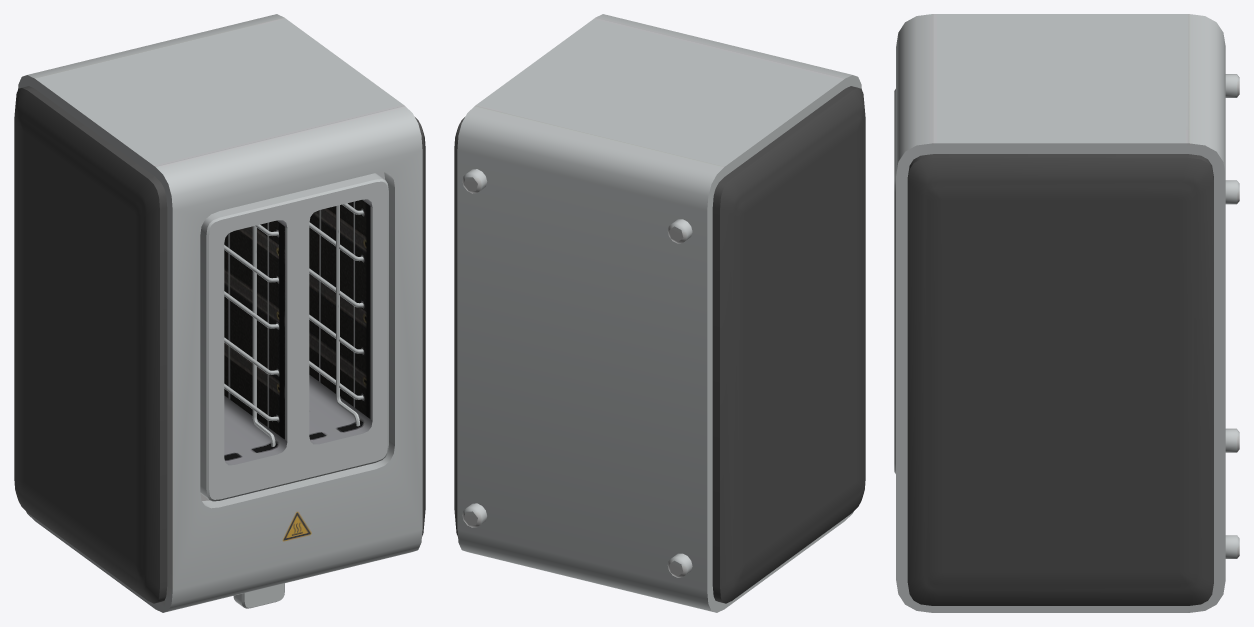
File: toaster_main_group_main_model_0.obj
The picture shows the model from 3 angles, left to right: view 1: azimuth 30°, elevation 25°; view 2: azimuth 150°, elevation 25°; view 3: azimuth 270°, elevation 25°; orthographic projection. The views are drawn at different scales.
Size of the model in its own units: 0.6116 by 1 by 0.6125.
Materials: 1 (1 with a texture image).
